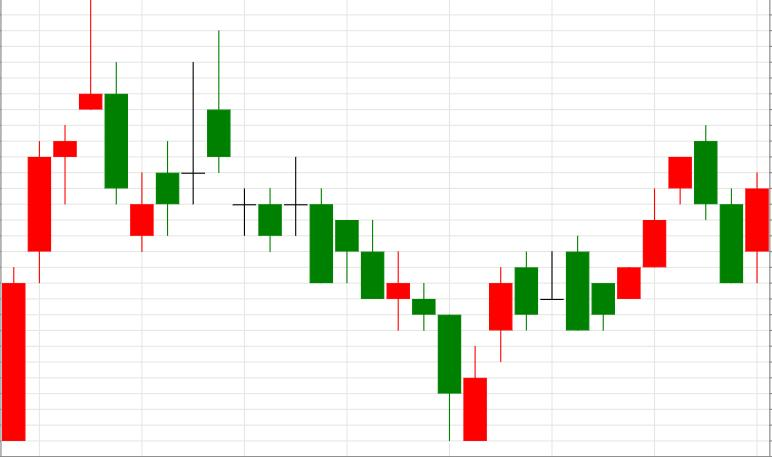bearish_engulfing_fall: (617, 124, 718, 299)
shooting_star_fall: (130, 30, 231, 252)
